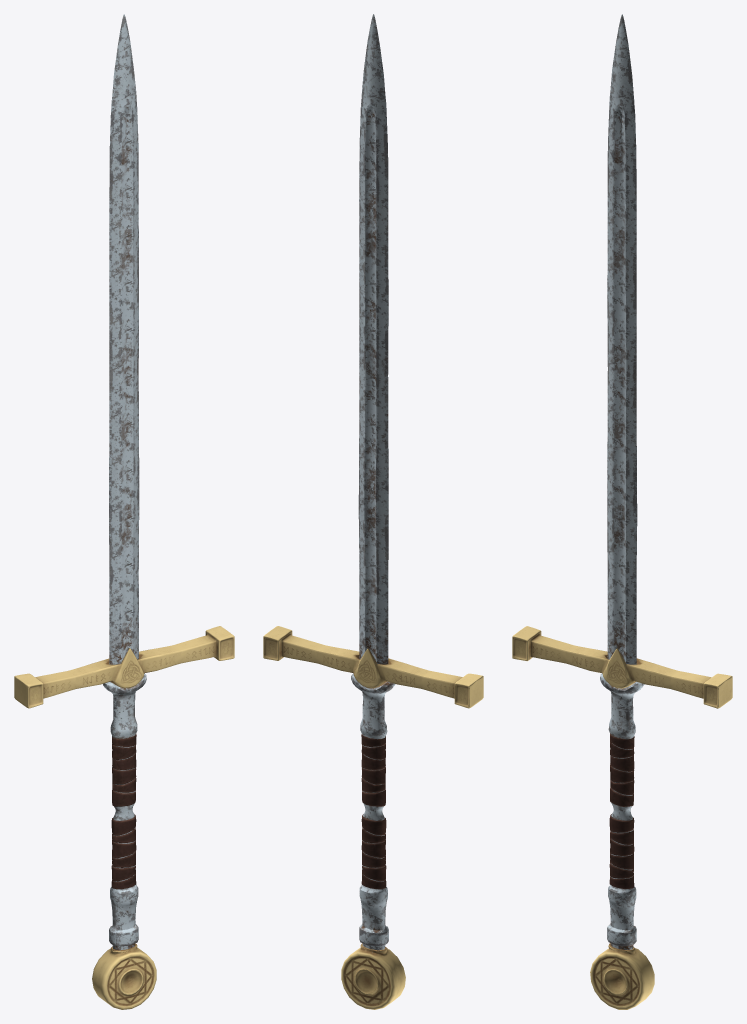
File: andlangr_sword.obj
3 views of the same model, side by side, from view 1: azimuth 30°, elevation 25°; view 2: azimuth 150°, elevation 25°; view 3: azimuth 330°, elevation 25° (orthographic).
Visible parts, largest first — view 1: obj1; view 2: obj1; view 3: obj1.
Part boxes in pixels (<box>): obj1: <box>14,14,234,1009</box>; obj1: <box>263,14,483,1009</box>; obj1: <box>512,14,732,1009</box>.
Bounding box in the file's own units: 0.2962 × 1.36 × 0.0358.
Materials: 1 (1 with a texture image).
